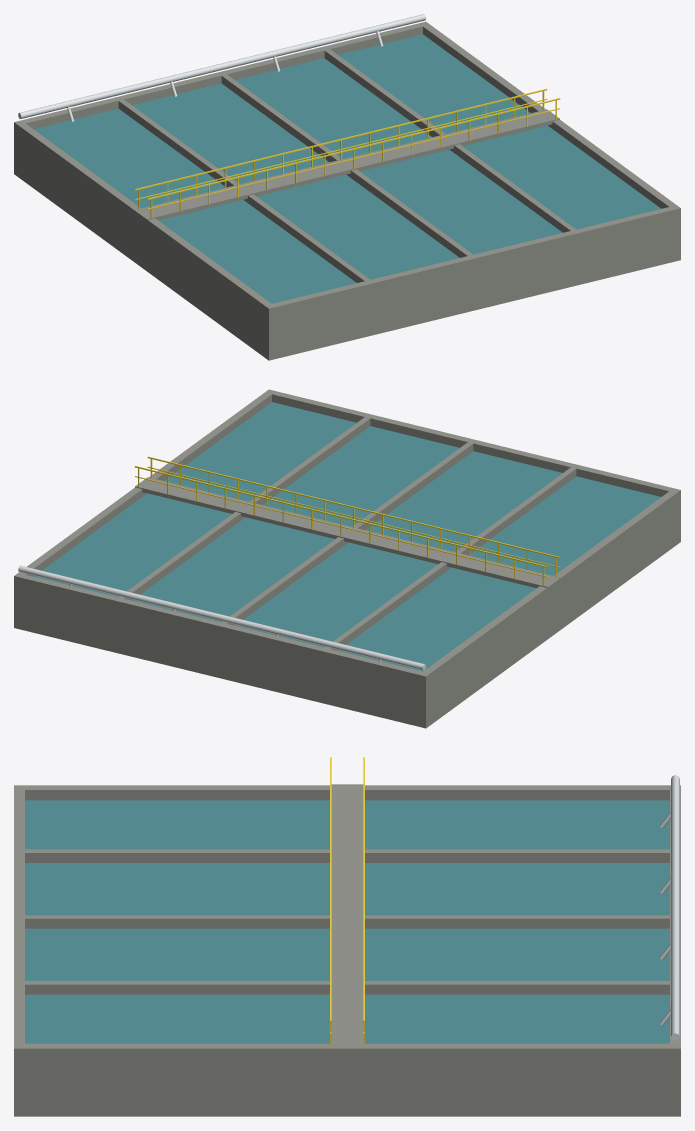
File: site_basin_close.fbx
The picture shows the model from 3 angles, top to bottom: view 1: azimuth 30°, elevation 25°; view 2: azimuth 150°, elevation 25°; view 3: azimuth 270°, elevation 25°; orthographic projection. The views are drawn at different scales.
Parts seen in each view (by area): view 1: a1058/0/site_basin_close; view 2: a1058/0/site_basin_close; view 3: a1058/0/site_basin_close.
Part boxes in pixels (x1,y1,x2,y2): a1058/0/site_basin_close: (14, 14, 680, 360); a1058/0/site_basin_close: (14, 389, 680, 728); a1058/0/site_basin_close: (14, 757, 680, 1116).
Size of the model in its own units: 22.4 by 3.81 by 24.
